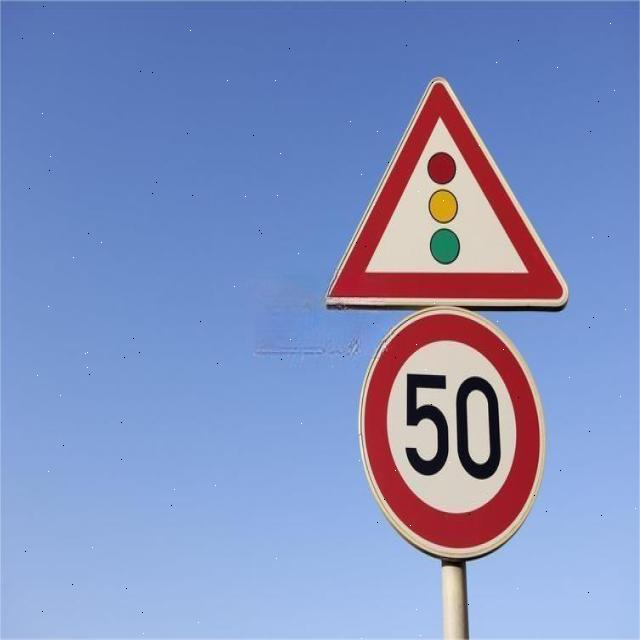speed limit 50: (358, 307, 545, 559)
